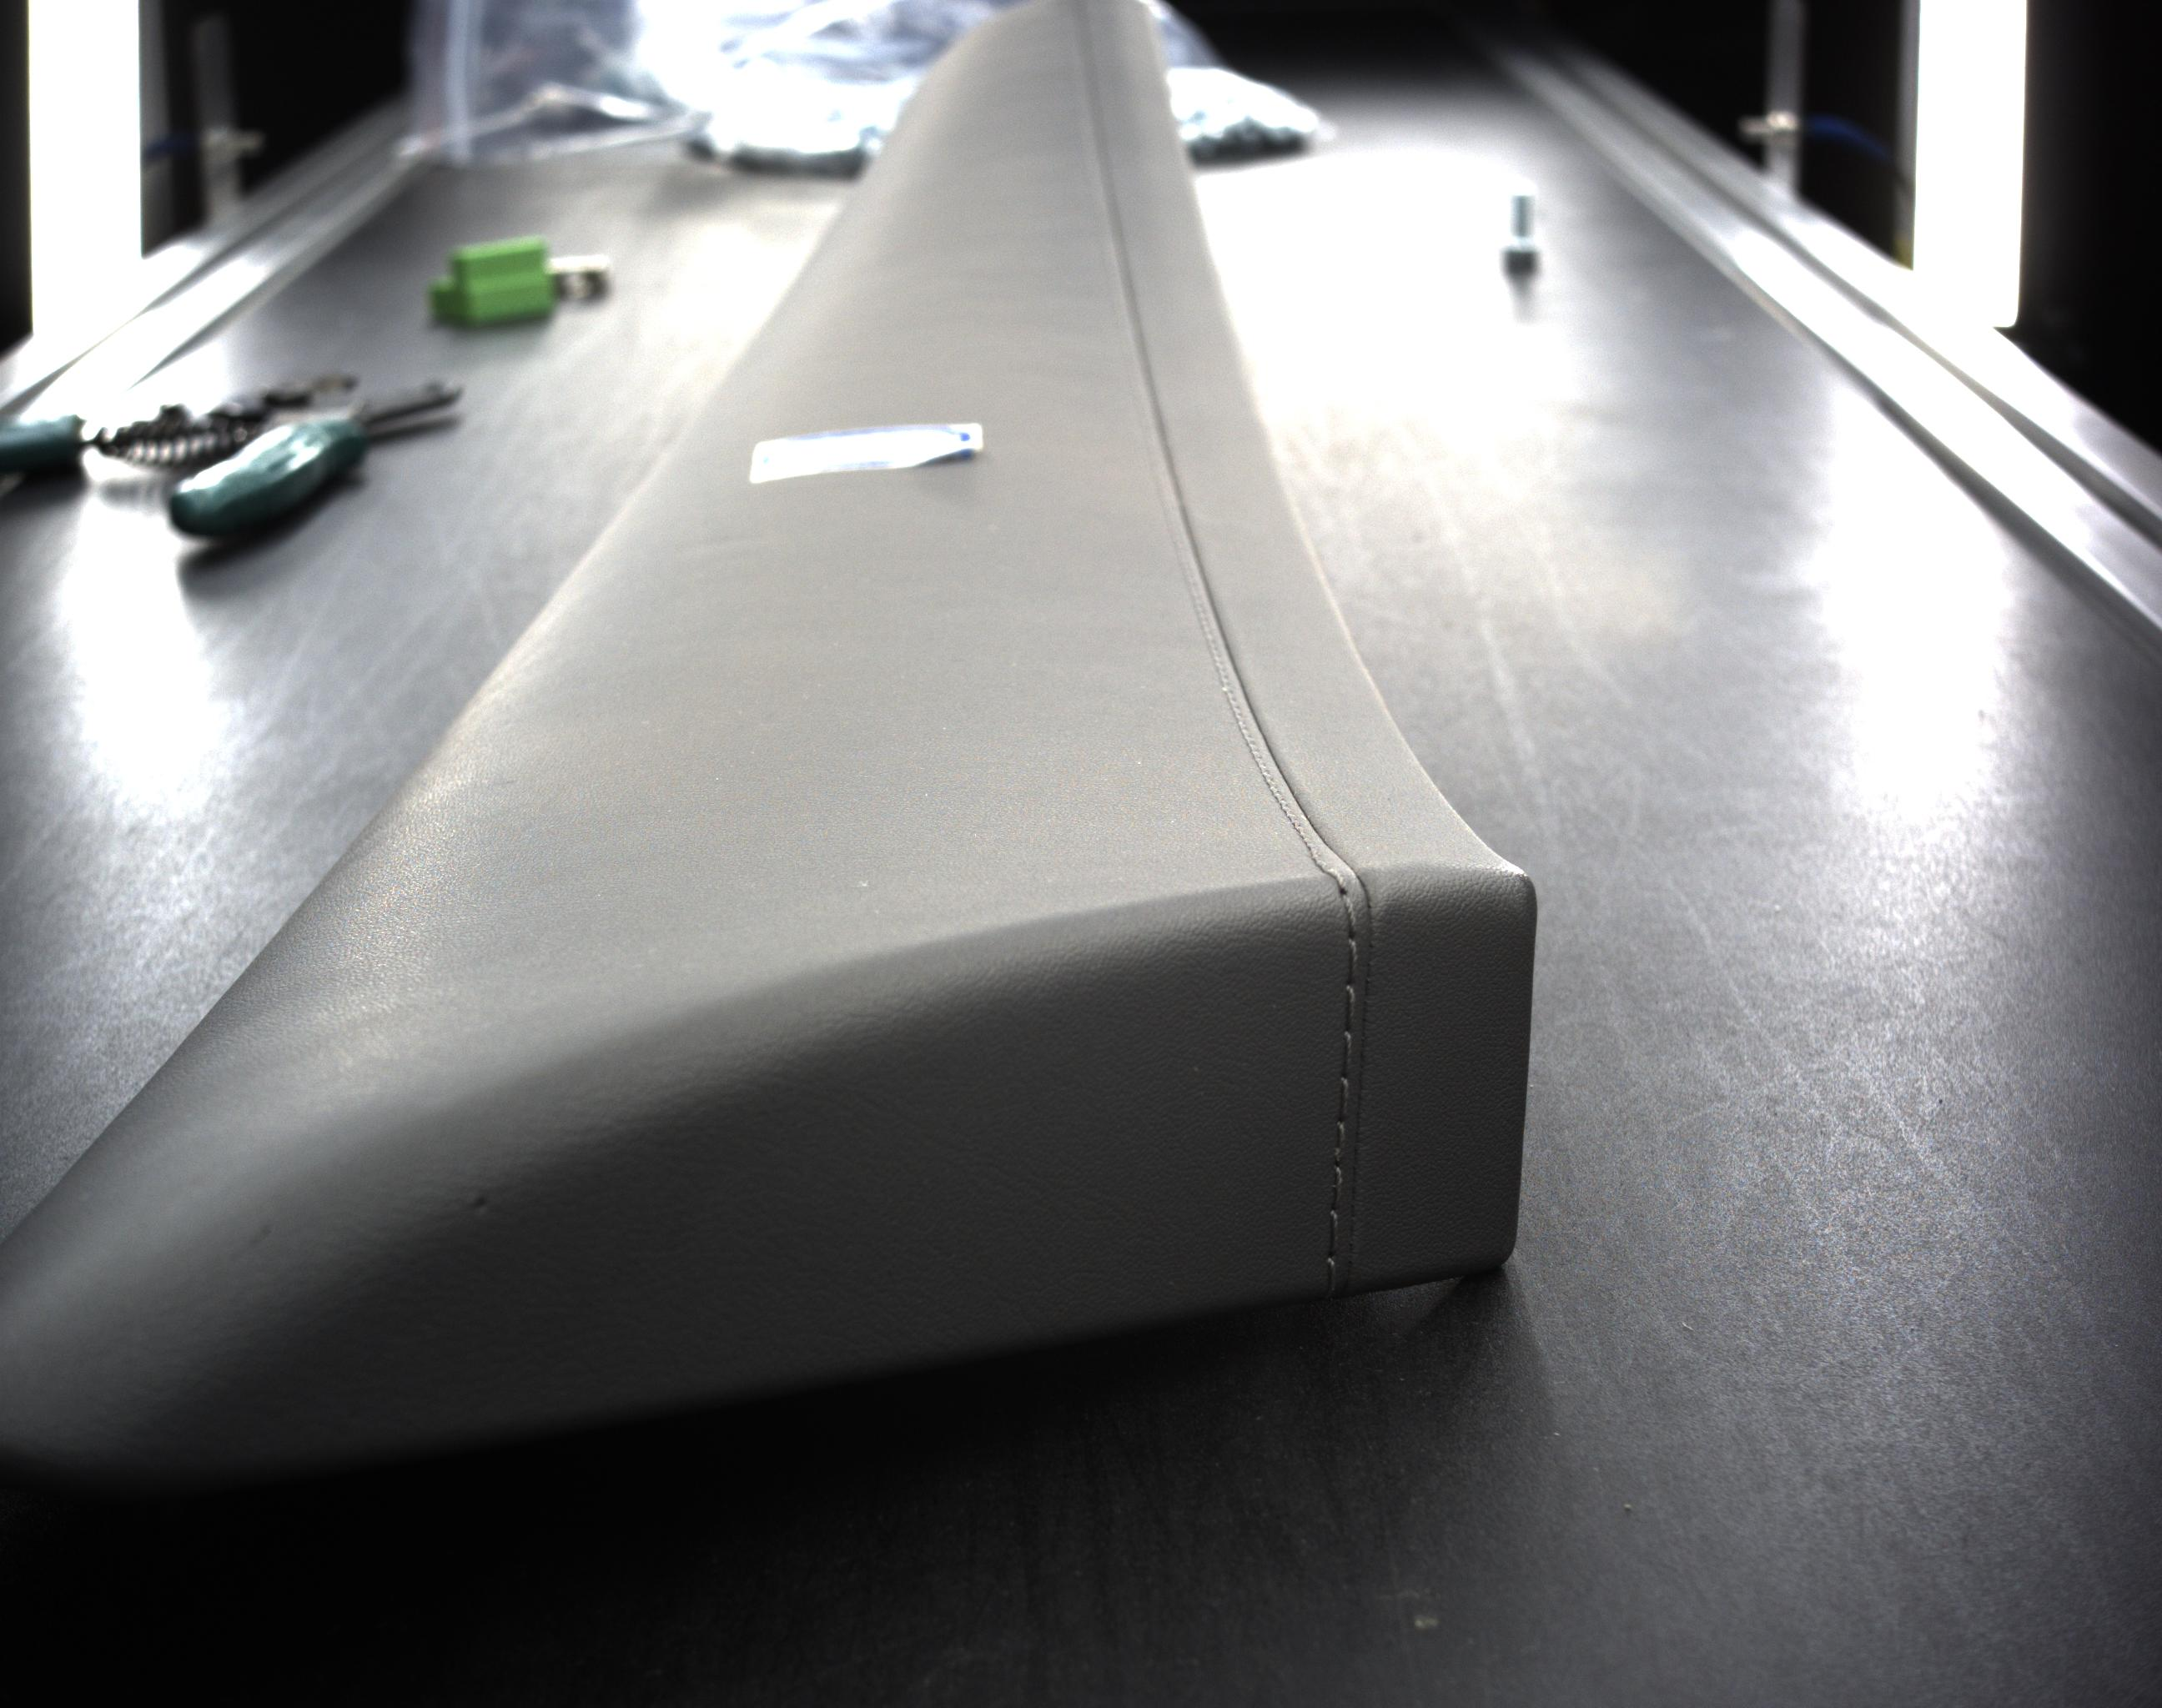vline: (1342, 987, 1357, 1032), (1330, 1166, 1344, 1206), (1346, 939, 1358, 985), (1335, 1123, 1348, 1166), (1341, 1034, 1353, 1074), (1327, 1259, 1339, 1297), (1339, 1078, 1349, 1122), (1328, 1213, 1339, 1252)
